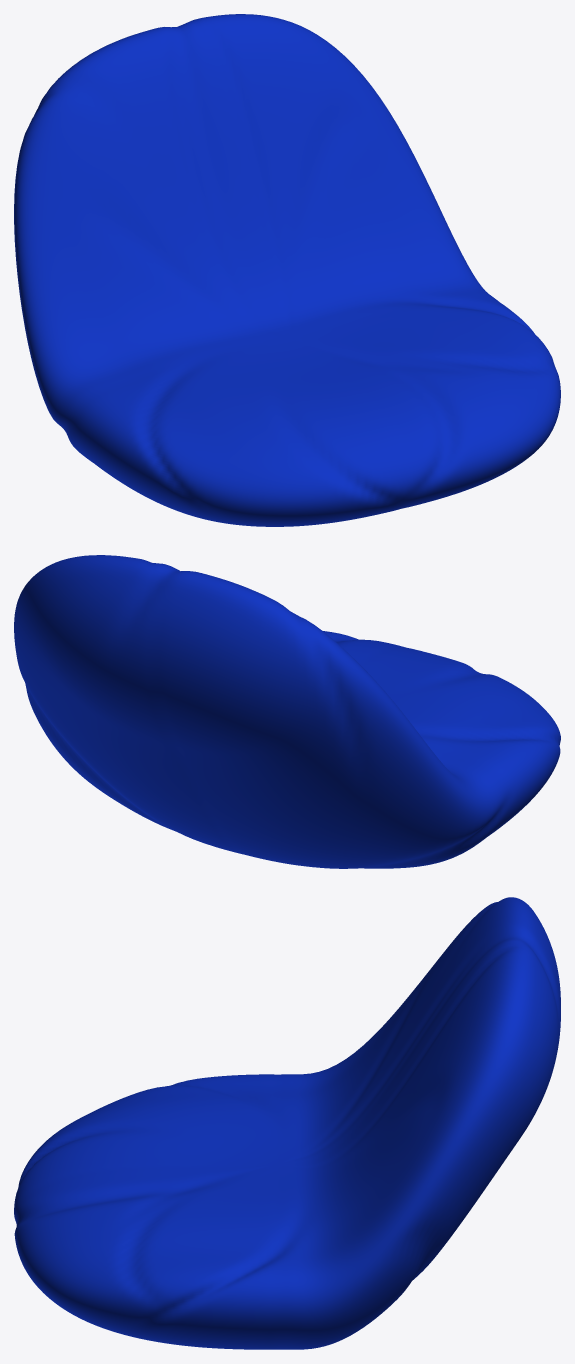
Rendered from beanBag-2.glb.
The picture shows the model from 3 angles, top to bottom: view 1: azimuth 30°, elevation 25°; view 2: azimuth 150°, elevation 25°; view 3: azimuth 270°, elevation 25°; orthographic projection. The views are drawn at different scales.
Visible parts, largest first — view 1: beanBag_2_continuous_cloth; view 2: beanBag_2_continuous_cloth; view 3: beanBag_2_continuous_cloth.
Boxes of the visible parts, x1,y1,x2,y2 form: beanBag_2_continuous_cloth: (14,14,560,526); beanBag_2_continuous_cloth: (14,555,560,868); beanBag_2_continuous_cloth: (14,897,560,1349).
Bounding box in the file's own units: 1.04 × 0.78 × 1.1.
